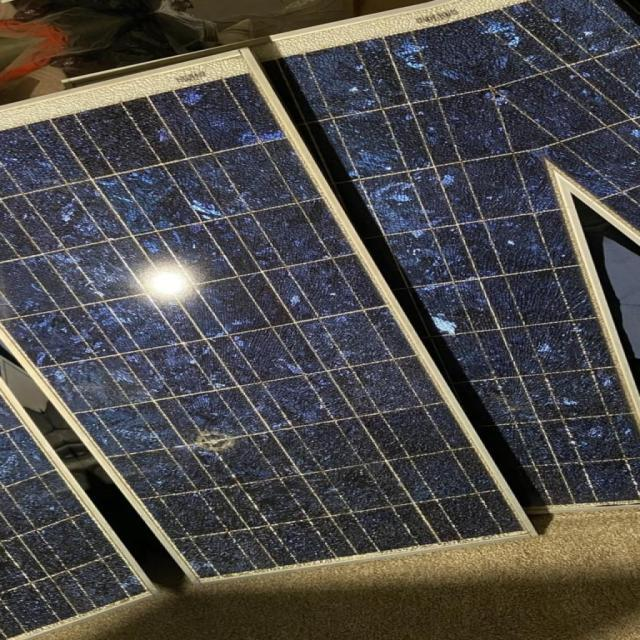cracked: (2, 90, 525, 581), (292, 2, 640, 500), (0, 390, 150, 626)
